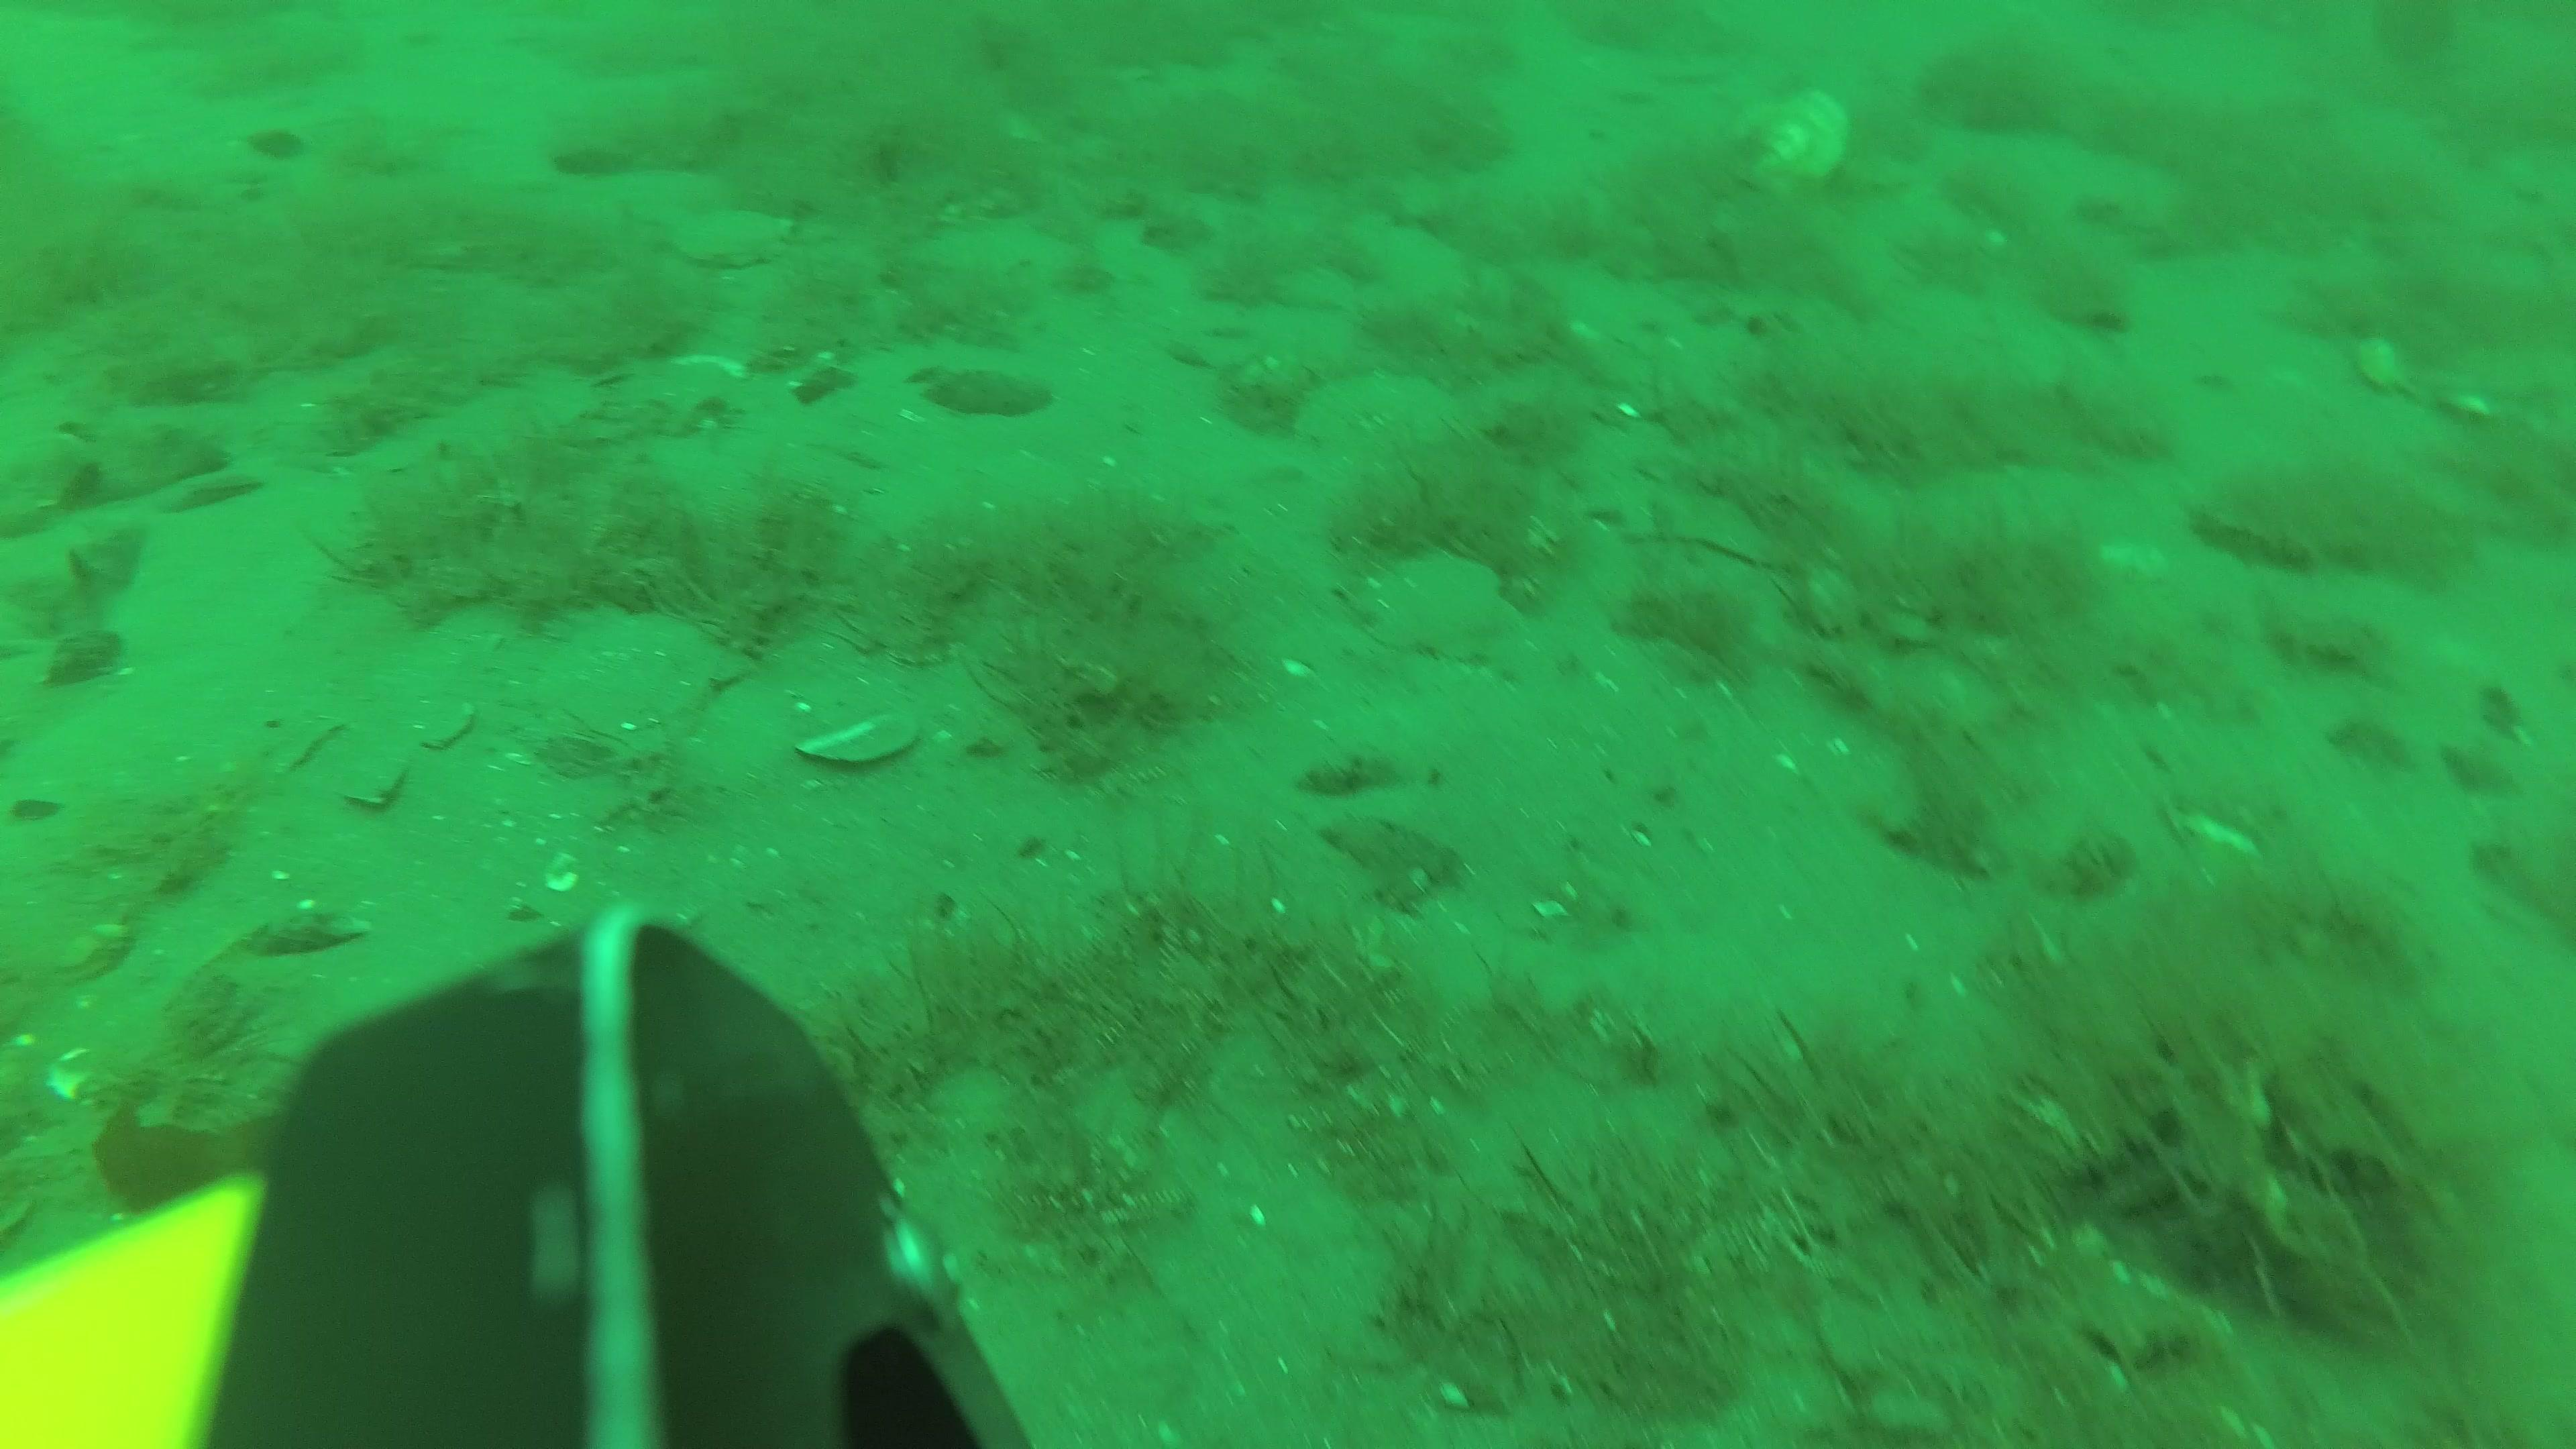scallop: (547, 614, 752, 725), (1355, 550, 1522, 655), (2369, 334, 2551, 410), (1729, 96, 1849, 186), (672, 203, 798, 267)
